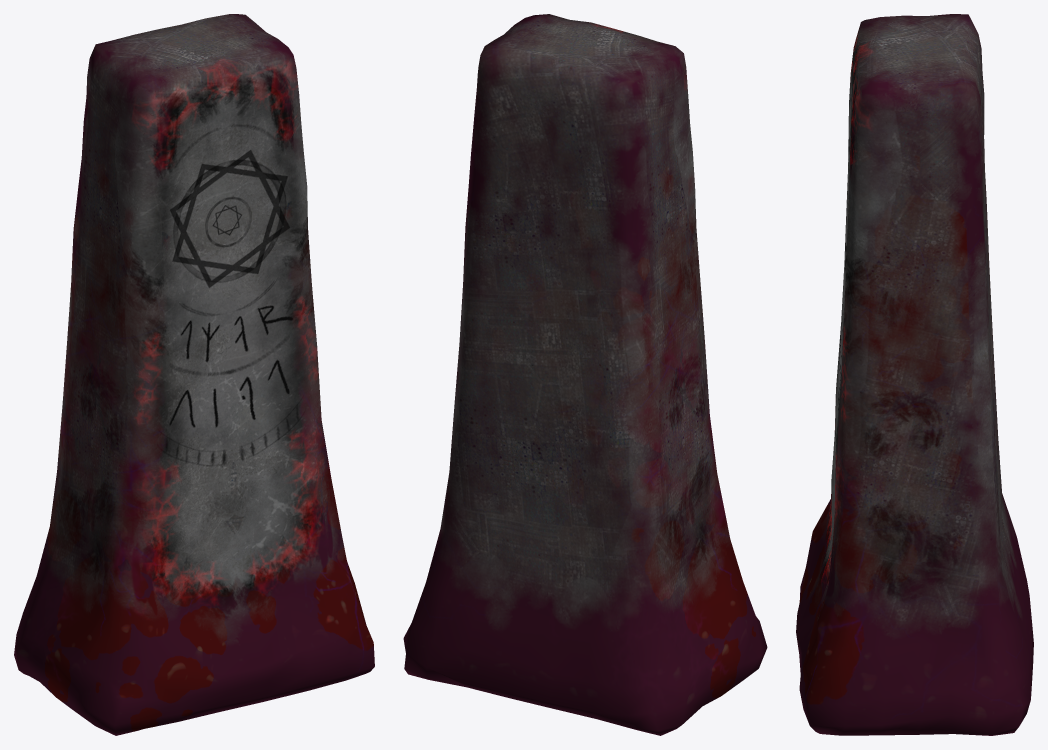
File: pilar.glb
3 views of the same model, side by side, from view 1: azimuth 30°, elevation 25°; view 2: azimuth 150°, elevation 25°; view 3: azimuth 270°, elevation 25° (orthographic).
Visible parts, largest first — view 1: Cube_004; view 2: Cube_004; view 3: Cube_004.
Boxes of the visible parts, x1,y1,x2,y2 form: Cube_004: [14, 14, 374, 735]; Cube_004: [403, 14, 767, 735]; Cube_004: [796, 14, 1033, 735].
Bounding box in the file's own units: 2.36 × 5.02 × 1.73.
1 material, 1 textured.
